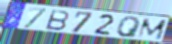2: (93, 13, 117, 37)
7: (72, 11, 96, 34), (23, 7, 47, 29)
B: (45, 9, 71, 32)
M: (135, 18, 168, 41)
Q: (115, 16, 142, 39)
